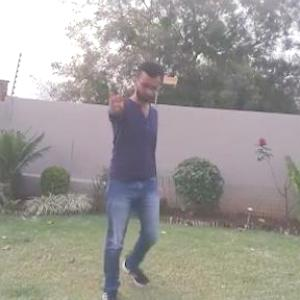takeoff-hand: (103, 80, 130, 117)
